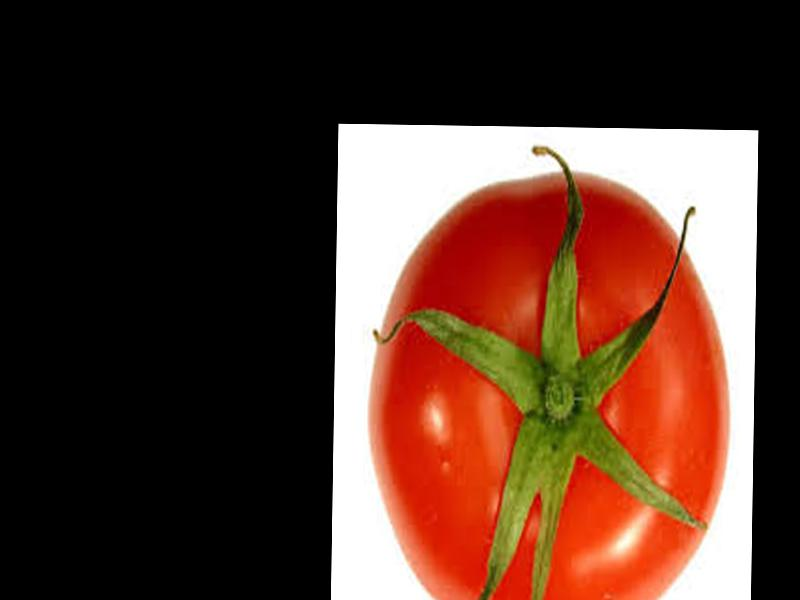Tomato: (367, 169, 732, 600)
